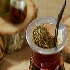guampa: (16, 1, 69, 70)
